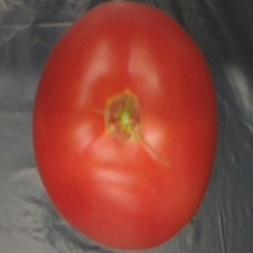unripe: (28, 0, 222, 253)
